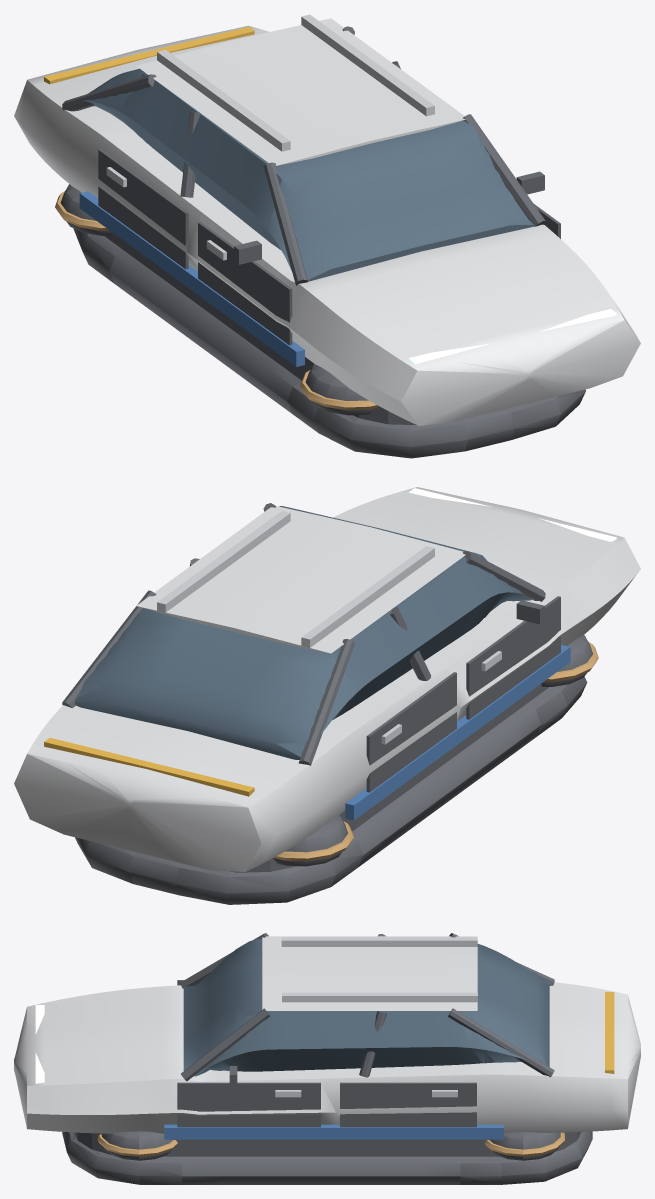
File: hover-transit-and-antigrav-fleet-family-hover-saloon-4787586a__17071.glb
3 views of the same model, one above another, from view 1: azimuth 30°, elevation 25°; view 2: azimuth 150°, elevation 25°; view 3: azimuth 270°, elevation 25° (orthographic). The views are drawn at different scales.
Visible parts, largest first — view 1: family-hover-saloon; view 2: family-hover-saloon; view 3: family-hover-saloon.
Part boxes in pixels (box(x1,y1,x2,y2)): family-hover-saloon: box(14, 14, 640, 458); family-hover-saloon: box(14, 487, 640, 904); family-hover-saloon: box(14, 933, 640, 1184).
Bounding box in the file's own units: 2.12 × 1.49 × 4.8.
